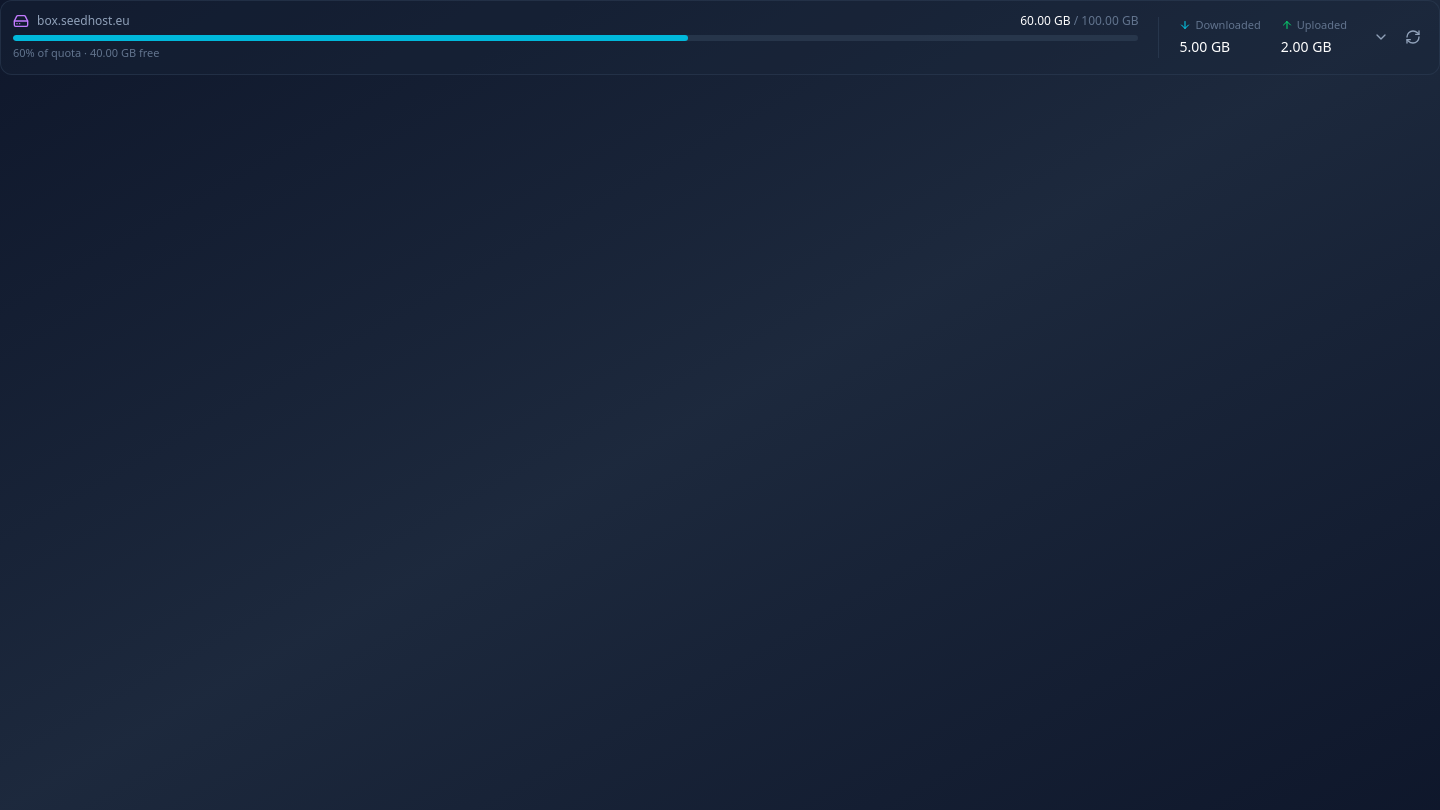
Test: VpsUsageBar - the details behind the chevron › splits traffic per client, names a failing client, and keeps the shared server apart
Expected: the text "Shared server" is not shown
What coordinates should you click on to do the following:
click the button titled "Per-client split and server health"
I would click on:
 (1381, 37)
Its box is x1=1367 y1=23 x2=1395 y2=51.
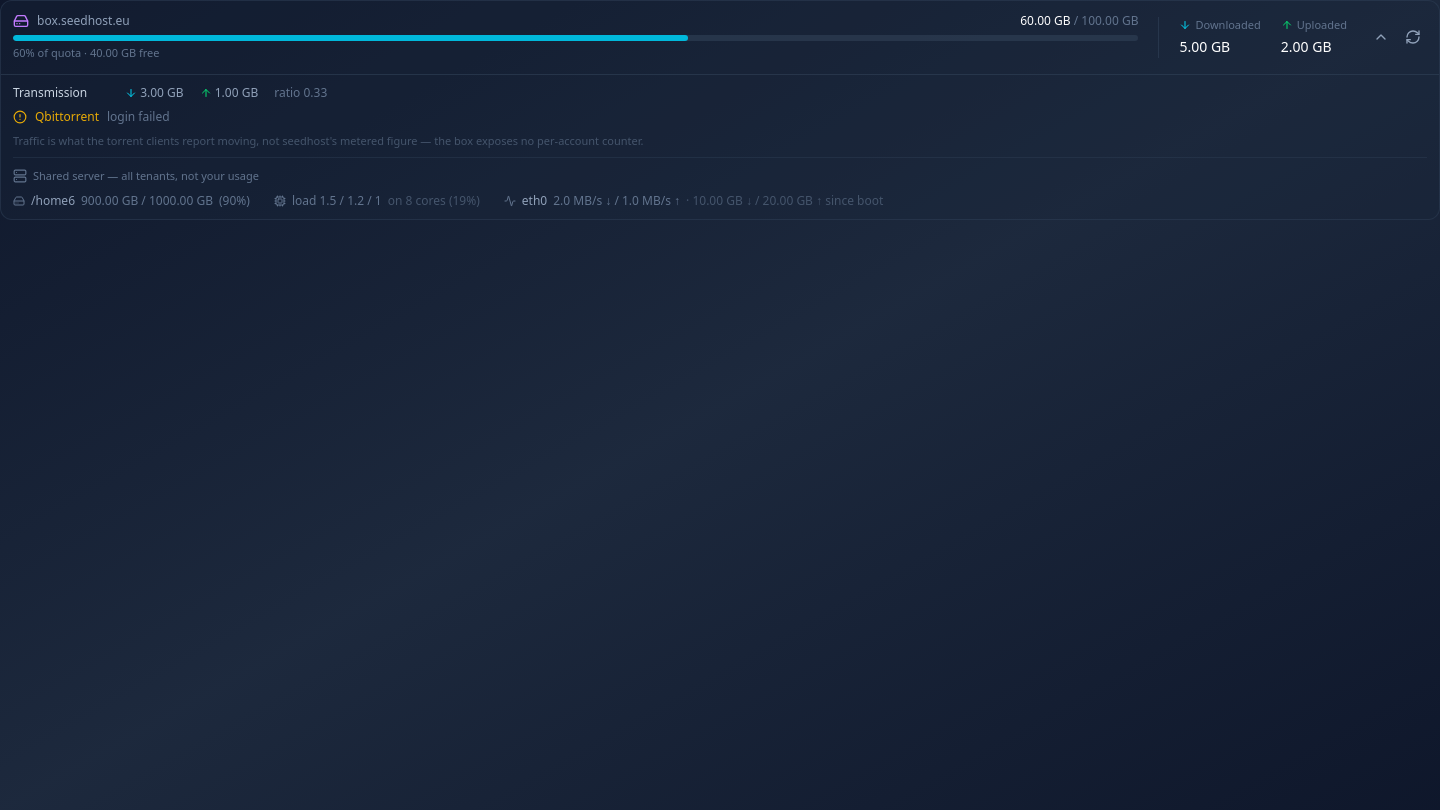
Now the button titled "Hide details" is shown
Now the text "transmission" is shown, box x1=13 y1=84 x2=87 y2=100
Now the text "ratio 0.33" is shown, box x1=274 y1=84 x2=327 y2=100
What coordinates should you click on to do the following:
click the button titled "Hide details"
I would click on:
 (1381, 37)
Its box is x1=1367 y1=23 x2=1395 y2=51.
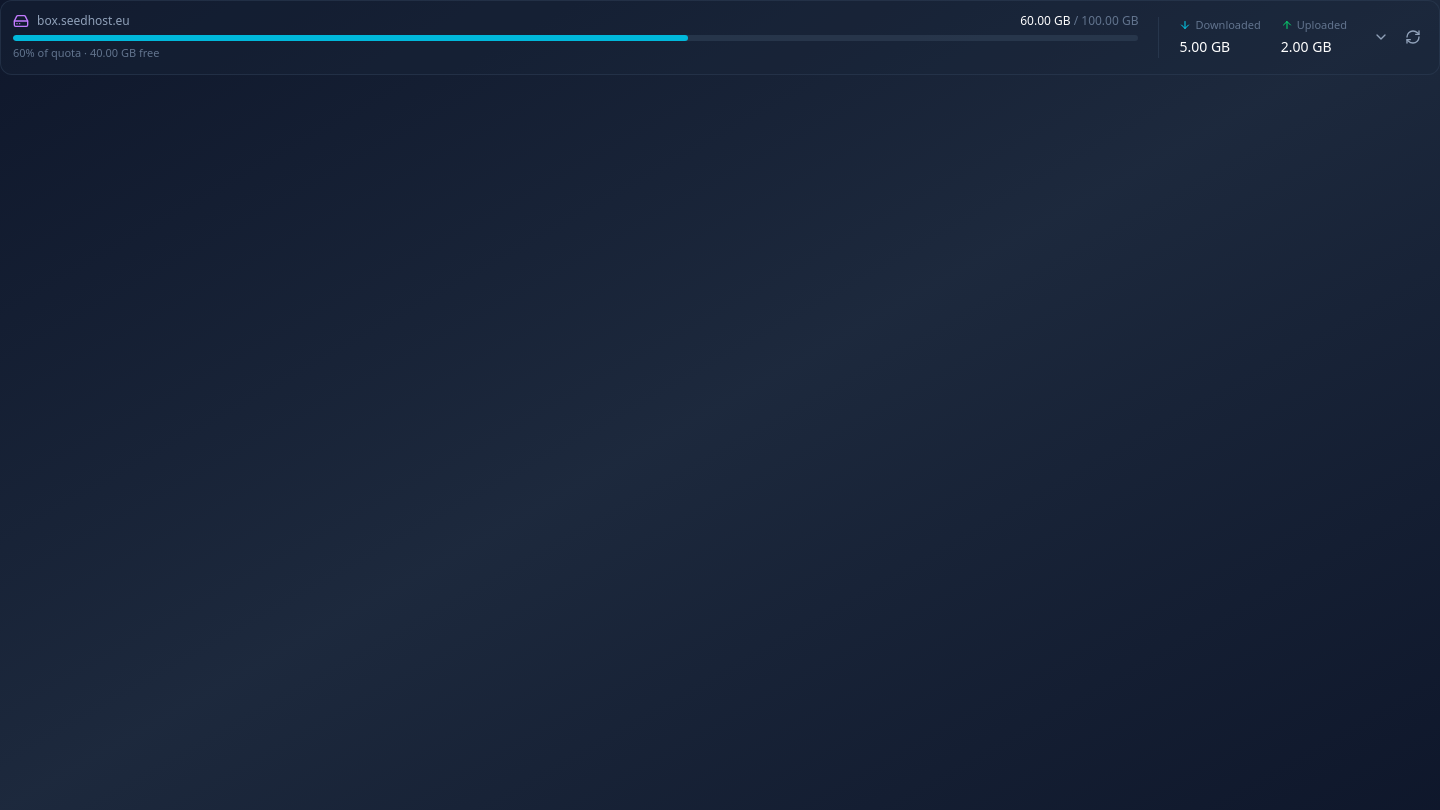
Now the text "Shared server" is gone
